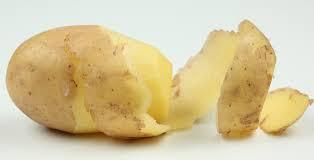Organic: (6, 8, 314, 160)
